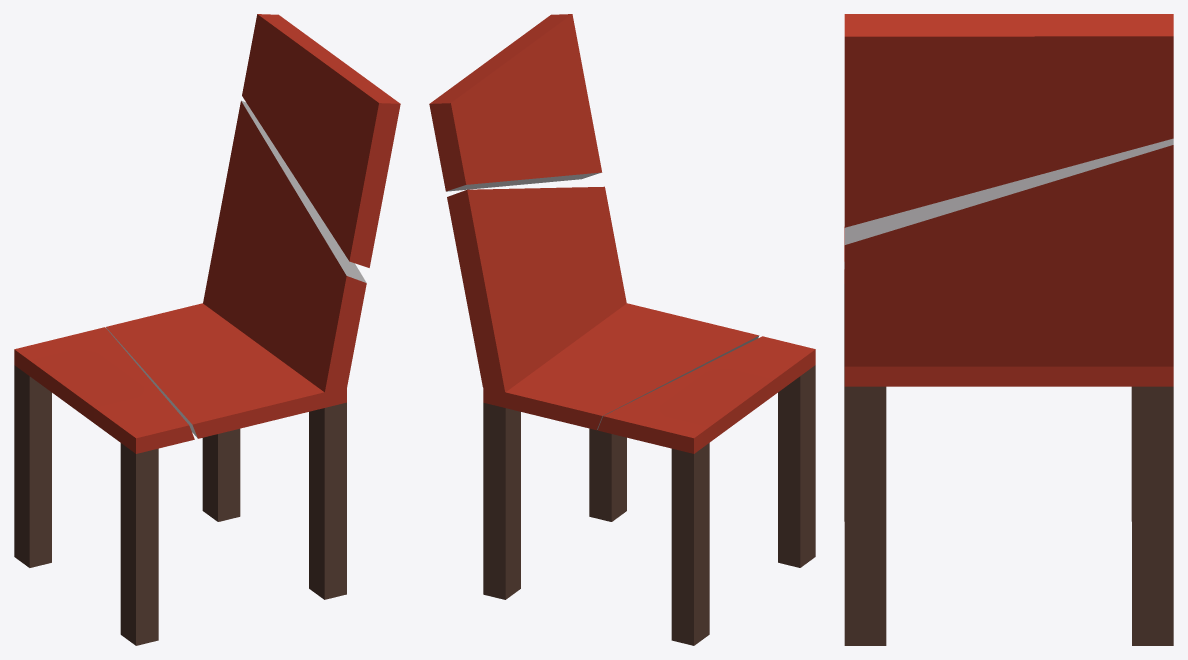
Rendered from Chair_DEST.fbx.
3 views of the same model, side by side, from view 1: azimuth 30°, elevation 25°; view 2: azimuth 150°, elevation 25°; view 3: azimuth 270°, elevation 25° (orthographic). The views are drawn at different scales.
Parts seen in each view (by area): view 1: polySurface1169.007, polySurface1169.003, polySurface1169.006, polySurface1169.001, polySurface1169.002, polySurface1169.005, polySurface1169, polySurface1169.004; view 2: polySurface1169.007, polySurface1169.003, polySurface1169.006, polySurface1169.001, polySurface1169, polySurface1169.004, polySurface1169.002, polySurface1169.005; view 3: polySurface1169.007, polySurface1169.003, polySurface1169.005, polySurface1169.004, polySurface1169.006.
Boxes of the visible parts, x1,y1,x2,y2 form: polySurface1169.007: [203, 100, 366, 392]; polySurface1169.003: [242, 14, 400, 267]; polySurface1169.006: [106, 303, 346, 438]; polySurface1169.001: [14, 327, 194, 453]; polySurface1169.002: [120, 443, 158, 645]; polySurface1169.005: [309, 402, 346, 599]; polySurface1169: [14, 365, 51, 567]; polySurface1169.004: [202, 428, 240, 521]; polySurface1169.007: [447, 186, 626, 392]; polySurface1169.003: [429, 14, 602, 191]; polySurface1169.006: [483, 303, 759, 430]; polySurface1169.001: [597, 336, 815, 453]; polySurface1169: [671, 443, 709, 645]; polySurface1169.004: [483, 402, 520, 599]; polySurface1169.002: [778, 365, 815, 567]; polySurface1169.005: [589, 428, 626, 521]; polySurface1169.007: [844, 138, 1173, 366]; polySurface1169.003: [844, 14, 1173, 227]; polySurface1169.005: [844, 386, 886, 645]; polySurface1169.004: [1132, 386, 1173, 645]; polySurface1169.006: [844, 366, 1173, 386].
Size of the model in its own units: 104 by 182 by 82.89.
Materials: 1 (1 with a texture image).
